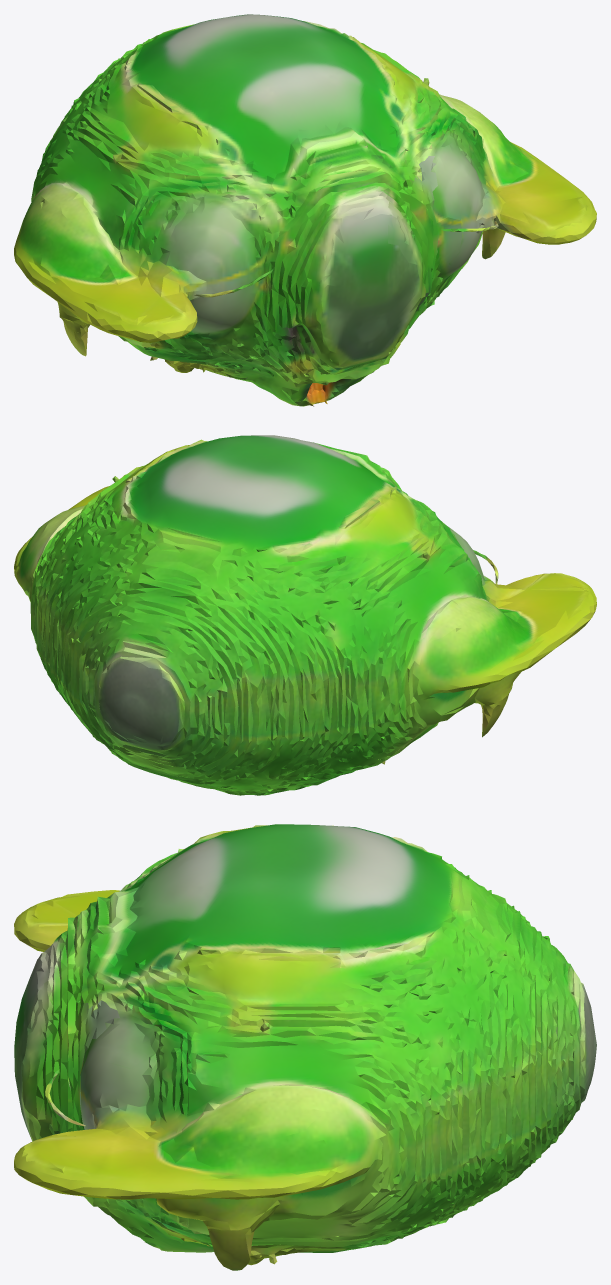
Rendered from mantis_cockpit.glb.
The picture shows the model from 3 angles, top to bottom: view 1: azimuth 30°, elevation 25°; view 2: azimuth 150°, elevation 25°; view 3: azimuth 270°, elevation 25°; orthographic projection. The views are drawn at different scales.
Visible parts, largest first — view 1: mantis_cockpit; view 2: mantis_cockpit; view 3: mantis_cockpit.
Boxes of the visible parts, box(x1,y1,x2,y2) form: mantis_cockpit: box(14, 14, 596, 406); mantis_cockpit: box(14, 435, 596, 795); mantis_cockpit: box(14, 824, 596, 1270).
Size of the model in its own units: 1.9 by 1.16 by 1.57.
Materials: 1 (1 with a texture image).
